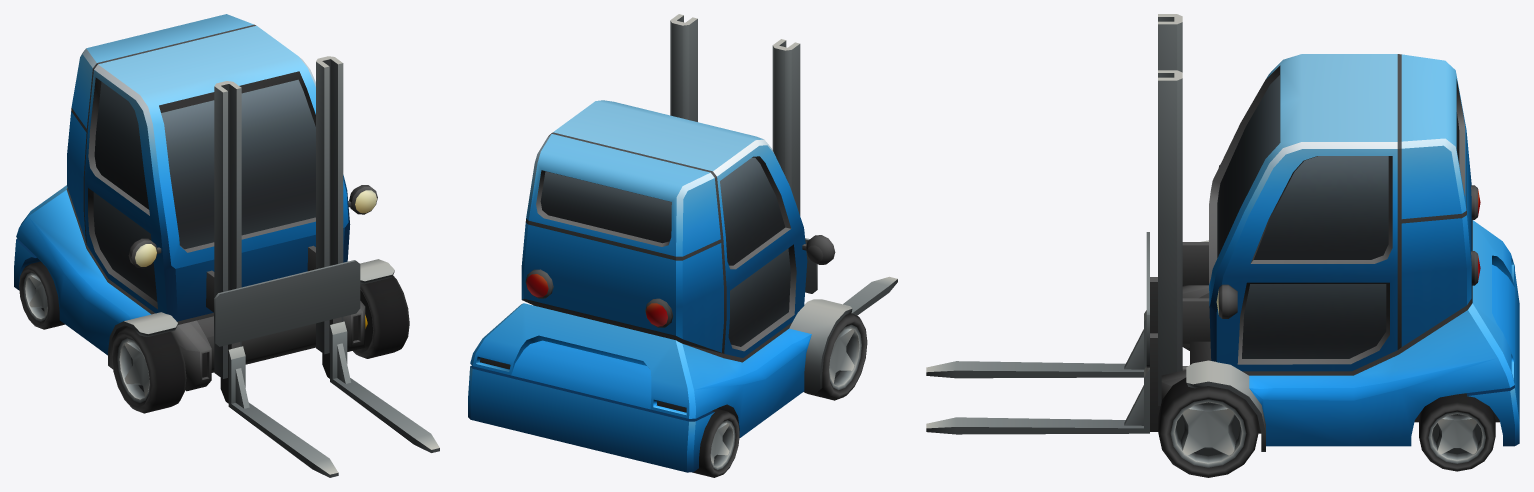
The model's file is Forklift_1C.fbx.
3 renders of one model, left to right at view 1: azimuth 30°, elevation 25°; view 2: azimuth 150°, elevation 25°; view 3: azimuth 270°, elevation 25°, orthographic. The views are drawn at different scales.
Visible parts, largest first — view 1: Forklift_1C, Forklift_1C_Forks, Forklift_1C_Wheel_F.R, Forklift_1C_Wheel_F.L, Forklift_1C_Wheel_R.R; view 2: Forklift_1C, Forklift_1C_Wheel_F.R, Forklift_1C_Wheel_R.R, Forklift_1C_Forks; view 3: Forklift_1C, Forklift_1C_Forks, Forklift_1C_Wheel_F.L, Forklift_1C_Wheel_R.L.
Part boxes in pixels (bbox=[...]): Forklift_1C: bbox=[14, 14, 394, 391]; Forklift_1C_Forks: bbox=[214, 260, 439, 477]; Forklift_1C_Wheel_F.R: bbox=[111, 327, 186, 413]; Forklift_1C_Wheel_F.L: bbox=[353, 275, 409, 358]; Forklift_1C_Wheel_R.R: bbox=[19, 261, 64, 329]; Forklift_1C: bbox=[468, 14, 852, 472]; Forklift_1C_Wheel_F.R: bbox=[804, 313, 867, 400]; Forklift_1C_Wheel_R.R: bbox=[692, 408, 739, 477]; Forklift_1C_Forks: bbox=[805, 238, 897, 315]; Forklift_1C: bbox=[1158, 14, 1519, 451]; Forklift_1C_Forks: bbox=[926, 232, 1160, 434]; Forklift_1C_Wheel_F.L: bbox=[1158, 377, 1258, 477]; Forklift_1C_Wheel_R.L: bbox=[1419, 393, 1495, 471].
Bounding box in the file's own units: 2.13 × 2.5 × 3.72.
